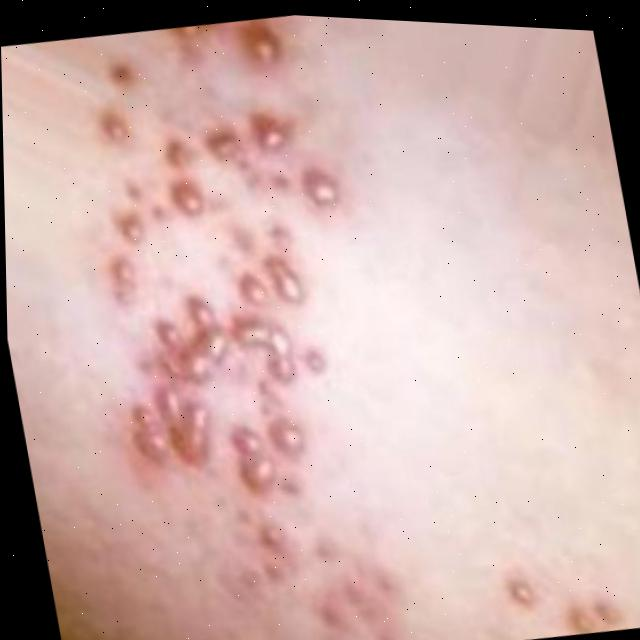Shingles: (57, 3, 415, 626), (254, 527, 434, 640), (482, 548, 637, 640)
